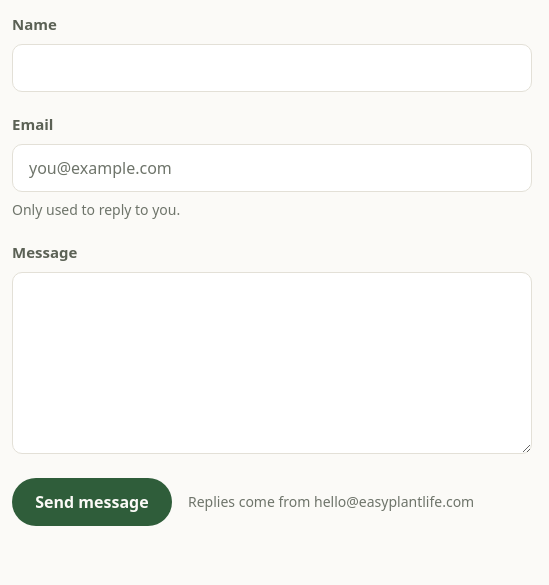
Scenario: Critical Functionality - Forms › Contact Form › validates required fields before sending
Click the button "Send message". click: (92, 502)
box: [12, 478, 172, 526]
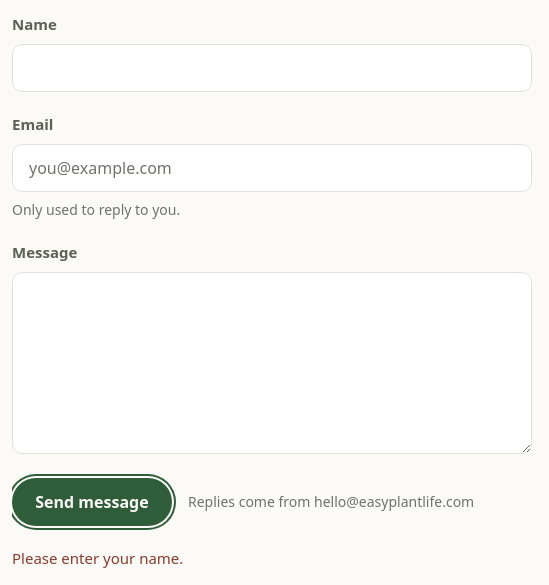
Check: the message with test id "contact-error" shows "Please enter your name", box [12, 548, 183, 568]
